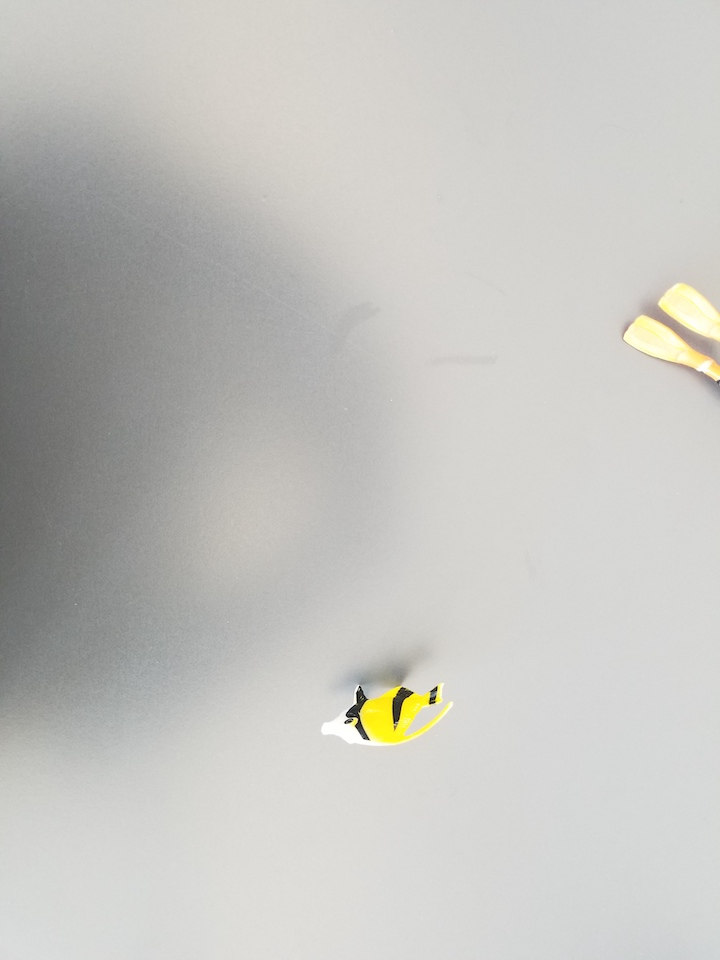danger: (321, 677, 457, 749)
diver: (622, 282, 720, 386)
